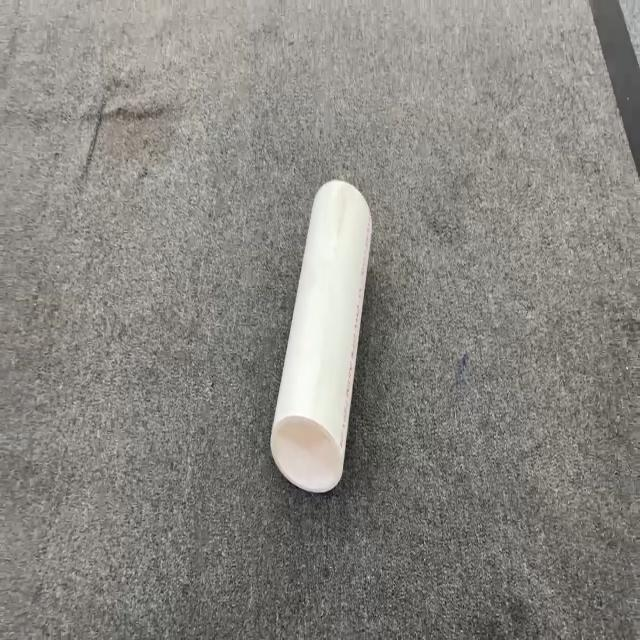coral: (269, 178, 373, 493)
